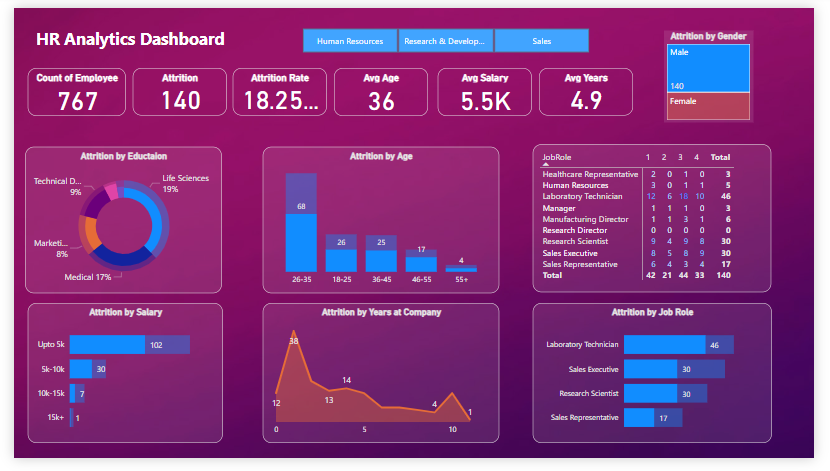

This screenshot's page, from the dashboard's own definition file:
{"tool":"powerbi","page":{"name":"Page 1","canvas":[1280,720],"ordinal":0},"visuals":[{"type":"card","title":"Avg Salary","fields":{"Values":["Avg(HR_Analytics.MonthlyIncome)"]},"box":[678.6,95.7,150,77.1],"z":0},{"type":"card","title":"Count of Employee","fields":{"Values":["CountNonNull(HR_Analytics.EmpID)"]},"box":[21.4,95.7,157.1,77.1],"z":1000},{"type":"card","title":"Attrition","fields":{"Values":["Sum(HR_Analytics.AttritionCount)"]},"box":[190,96,150,75.7],"z":2000},{"type":"card","title":"Attrition Rate","fields":{"Values":["HR_Analytics.AttritionRate"]},"box":[350,95.7,150,75.7],"z":3000},{"type":"card","title":"Avg Years","fields":{"Values":["Avg(HR_Analytics.YearsAtCompany)"]},"box":[840,95.7,150,75.7],"z":4000},{"type":"card","title":"Avg Age","fields":{"Values":["Avg(HR_Analytics.Age)"]},"box":[511.4,95.7,150,77.1],"z":5000},{"type":"donutChart","title":"Attrition by Eductaion","fields":{"Category":["HR_Analytics.EducationField"],"Y":["Sum(HR_Analytics.AttritionCount)"]},"box":[18.6,221.4,314.3,234.3],"z":6000},{"type":"pivotTable","title":"Attrition by Eductaion","fields":{"Rows":["HR_Analytics.JobRole"],"Columns":["HR_Analytics.JobSatisfaction"],"Values":["Sum(HR_Analytics.AttritionCount)"]},"box":[830,218.6,381.4,237.1],"z":7000},{"type":"columnChart","title":"Attrition by Age","fields":{"Category":["HR_Analytics.AgeGroup"],"Y":["Sum(HR_Analytics.AttritionCount)"]},"box":[398.6,221.4,378.6,234.3],"z":8000},{"type":"barChart","title":"Attrition by Salary","fields":{"Category":["HR_Analytics.SalarySlab"],"Y":["Sum(HR_Analytics.AttritionCount)"]},"box":[22,472,312,224],"z":9000},{"type":"barChart","title":"Attrition by Job Role","fields":{"Y":["Sum(HR_Analytics.AttritionCount)"],"Category":["HR_Analytics.JobRole"]},"box":[830,472,382,224],"z":10000},{"type":"areaChart","title":"Attrition by Years at Company","fields":{"Category":["HR_Analytics.YearsAtCompany"],"Y":["Sum(HR_Analytics.AttritionCount)"]},"box":[398.6,471.4,378.6,224.3],"z":11000},{"type":"treemap","title":"Attrition by Gender","fields":{"Group":["HR_Analytics.Gender"],"Values":["Sum(HR_Analytics.AttritionCount)"]},"box":[1040,35.7,142.9,147.1],"z":12000},{"type":"slicer","fields":{"Values":["HR_Analytics.Department"]},"box":[435,25,508.3,51.7],"z":13000},{"type":"textbox","box":[30,25.7,345.7,58.6],"z":14000}]}

Visuals, with their boxes in screenshot pixels (x1, y1, x2, y2), scaled from the page's 1280x720 canvas onto the 830x471 screenshot:
"Avg Salary" card: 440, 63, 537, 113
"Count of Employee" card: 14, 63, 116, 113
"Attrition" card: 123, 63, 220, 112
"Attrition Rate" card: 227, 63, 324, 112
"Avg Years" card: 545, 63, 642, 112
"Avg Age" card: 332, 63, 429, 113
"Attrition by Eductaion" donutChart: 12, 145, 216, 298
"Attrition by Eductaion" pivotTable: 538, 143, 786, 298
"Attrition by Age" columnChart: 258, 145, 504, 298
"Attrition by Salary" barChart: 14, 309, 217, 455
"Attrition by Job Role" barChart: 538, 309, 786, 455
"Attrition by Years at Company" areaChart: 258, 308, 504, 455
"Attrition by Gender" treemap: 674, 23, 767, 120
slicer - HR_Analytics.Department: 282, 16, 612, 50
textbox: 19, 17, 244, 55
